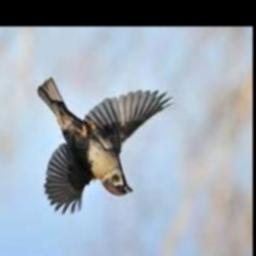Sparrow: (38, 77, 174, 216)
